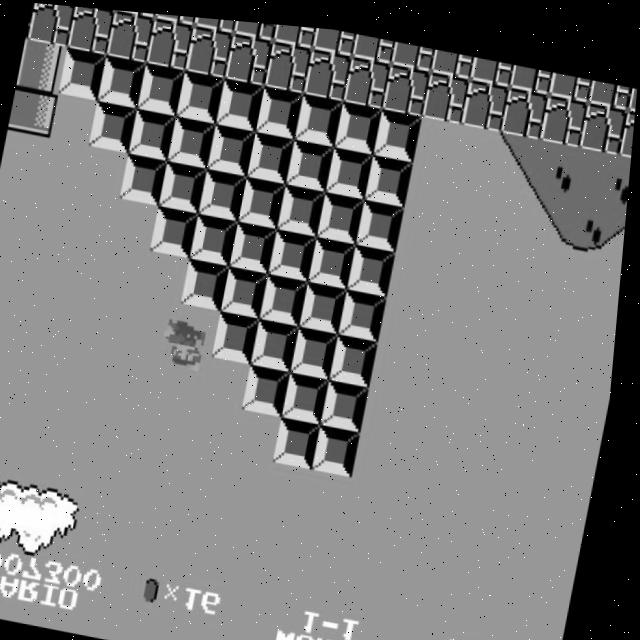11- little_mario: (161, 314, 212, 369)
14- pipe: (19, 38, 68, 91), (17, 39, 27, 85)
15- pipe_head: (11, 83, 61, 137), (10, 84, 20, 129)
17- undestructible_block: (145, 14, 195, 67), (224, 28, 274, 81), (461, 70, 511, 123), (540, 84, 590, 137), (580, 91, 630, 144), (422, 62, 471, 116), (501, 76, 550, 130), (185, 21, 234, 74), (264, 35, 313, 88), (304, 42, 353, 95), (343, 49, 392, 102), (383, 56, 432, 109), (106, 8, 155, 60), (66, 5, 115, 53), (27, 2, 76, 46), (351, 27, 396, 57), (391, 33, 436, 63), (430, 41, 475, 71), (509, 55, 554, 85), (588, 68, 633, 98), (470, 48, 514, 78), (549, 62, 593, 92), (311, 22, 356, 50), (272, 19, 316, 42), (233, 16, 277, 35), (620, 97, 636, 148), (193, 14, 237, 29), (153, 11, 197, 22), (25, 2, 35, 39), (628, 75, 638, 103)
9- hard_block: (90, 97, 140, 151), (153, 201, 203, 255), (208, 118, 258, 172), (232, 215, 282, 269), (287, 364, 337, 418), (129, 104, 179, 157), (169, 111, 219, 164), (192, 209, 242, 262), (216, 73, 266, 126), (216, 306, 266, 359), (248, 125, 298, 178), (271, 222, 321, 275), (287, 132, 337, 185), (295, 87, 345, 140), (295, 320, 345, 373), (311, 230, 361, 283), (335, 94, 385, 147), (334, 327, 384, 380), (350, 236, 400, 289), (374, 101, 424, 154), (98, 52, 147, 106), (177, 66, 226, 120), (59, 46, 108, 99), (138, 59, 187, 112), (185, 254, 234, 307), (256, 80, 305, 133), (248, 358, 297, 411), (256, 313, 305, 366), (264, 268, 313, 321), (327, 139, 376, 192), (319, 417, 368, 470), (327, 372, 376, 425), (343, 282, 392, 335), (367, 146, 416, 199), (122, 150, 171, 202), (161, 157, 210, 209), (201, 164, 250, 216), (240, 171, 289, 223), (303, 275, 352, 327), (319, 185, 368, 237), (225, 261, 273, 313), (280, 178, 328, 230), (280, 411, 328, 463), (359, 192, 407, 244)
